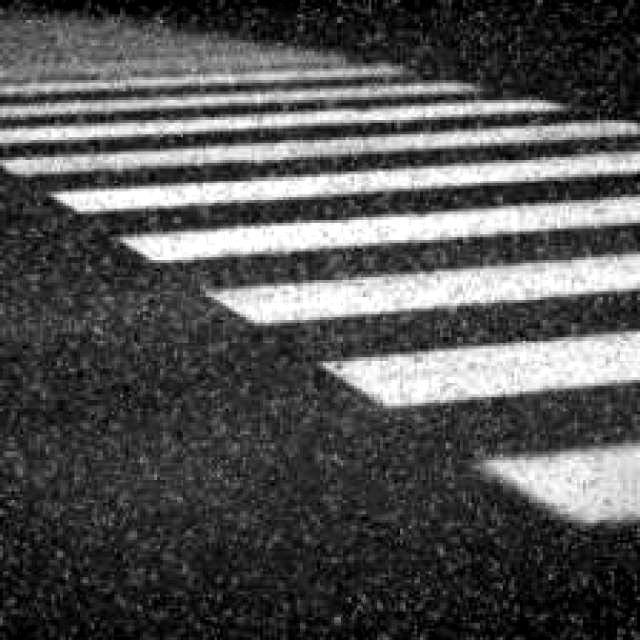crosswalk: (1, 24, 638, 551)
